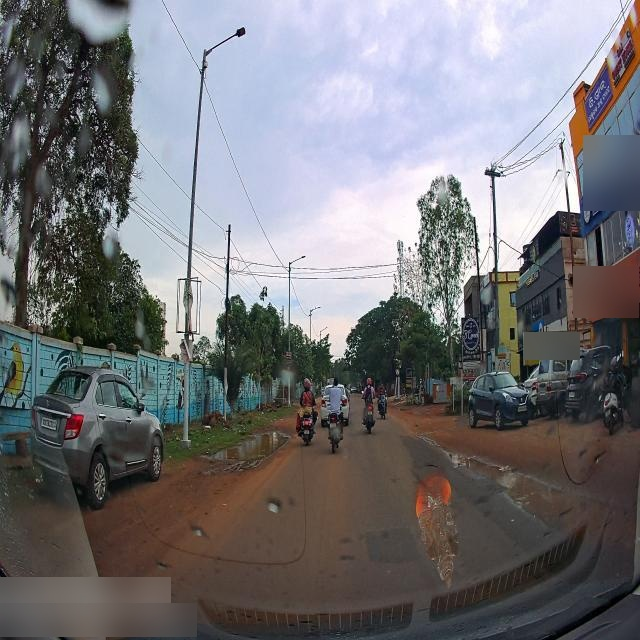pothole: (454, 455, 568, 503), (208, 432, 290, 474)
